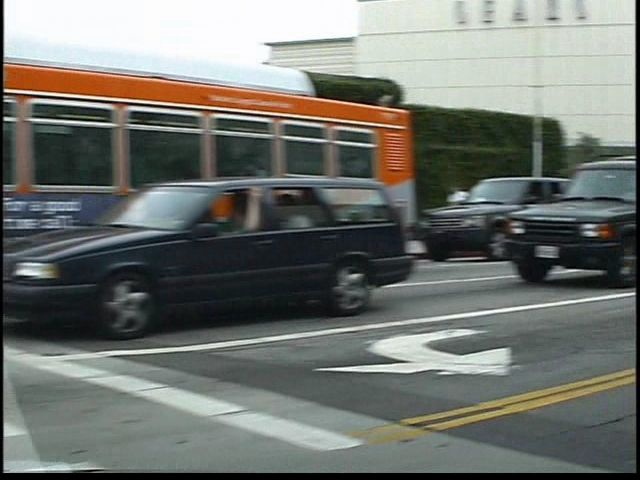person: (464, 178, 493, 244)
